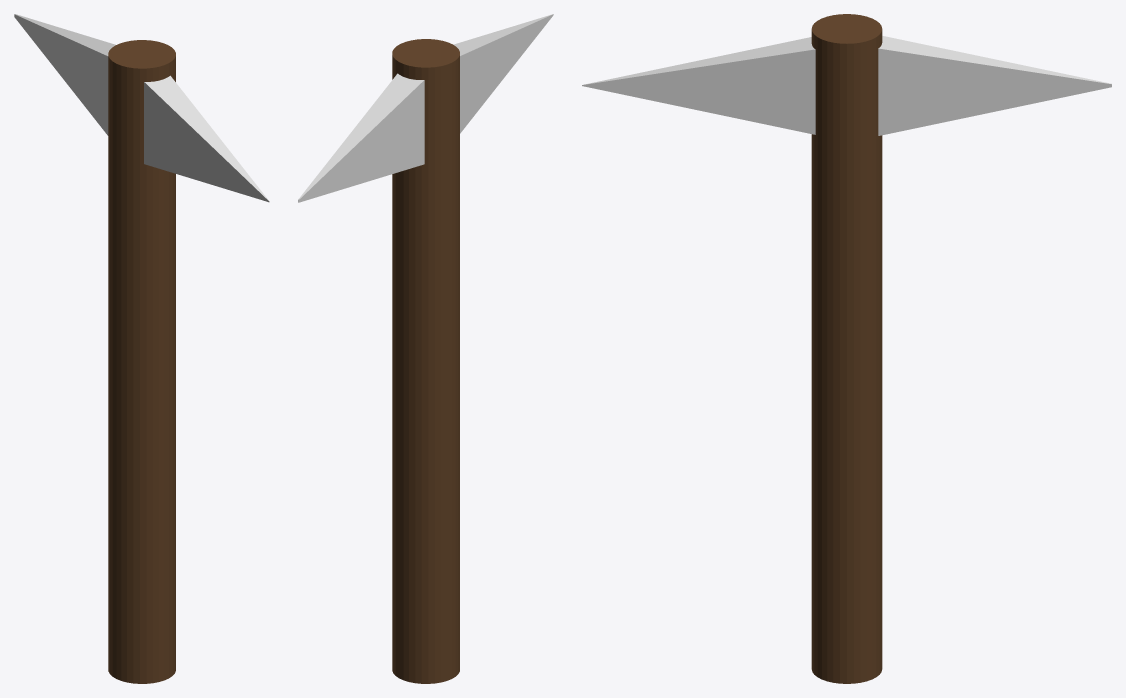
File: PickAxe2.fbx
3 renders of one model, left to right at view 1: azimuth 30°, elevation 25°; view 2: azimuth 150°, elevation 25°; view 3: azimuth 270°, elevation 25°, orthographic. The views are drawn at different scales.
Parts seen in each view (by area): view 1: Cylinder; view 2: Cylinder; view 3: Cylinder.
Part boxes in pixels (x1=…): Cylinder: x1=14, y1=14, x2=269, y2=683; Cylinder: x1=298, y1=14, x2=553, y2=683; Cylinder: x1=582, y1=14, x2=1111, y2=683.
Bounding box in the file's own units: 40 × 400 × 300.
